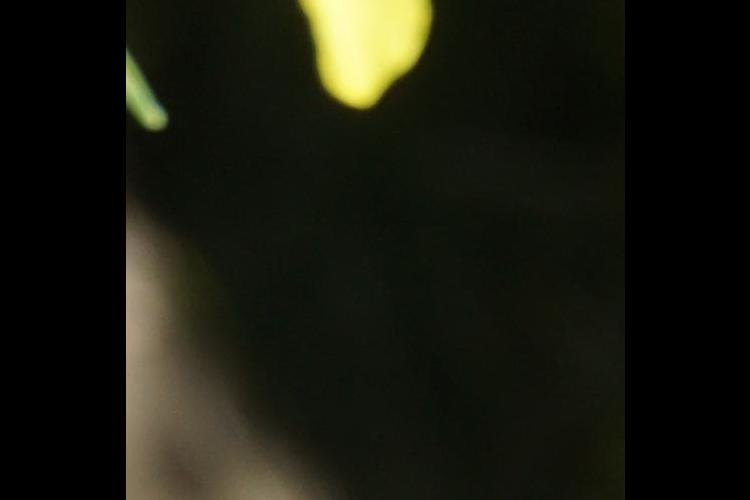yellow: (162, 1, 488, 113)
